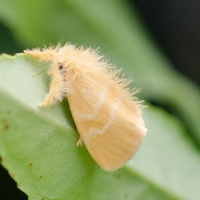insect: (24, 43, 146, 170)
